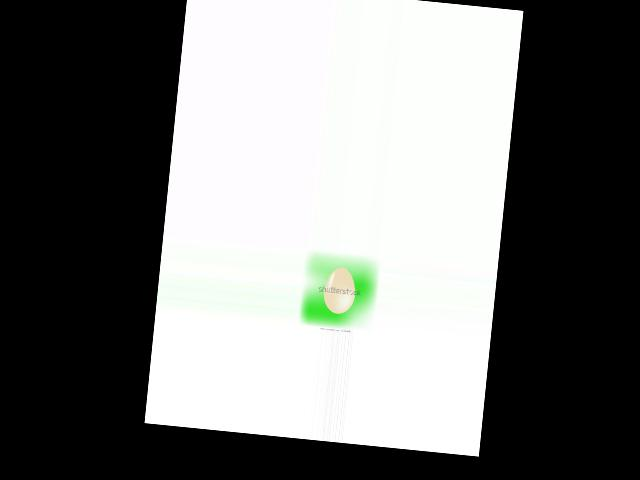egg: (322, 266, 357, 315)
